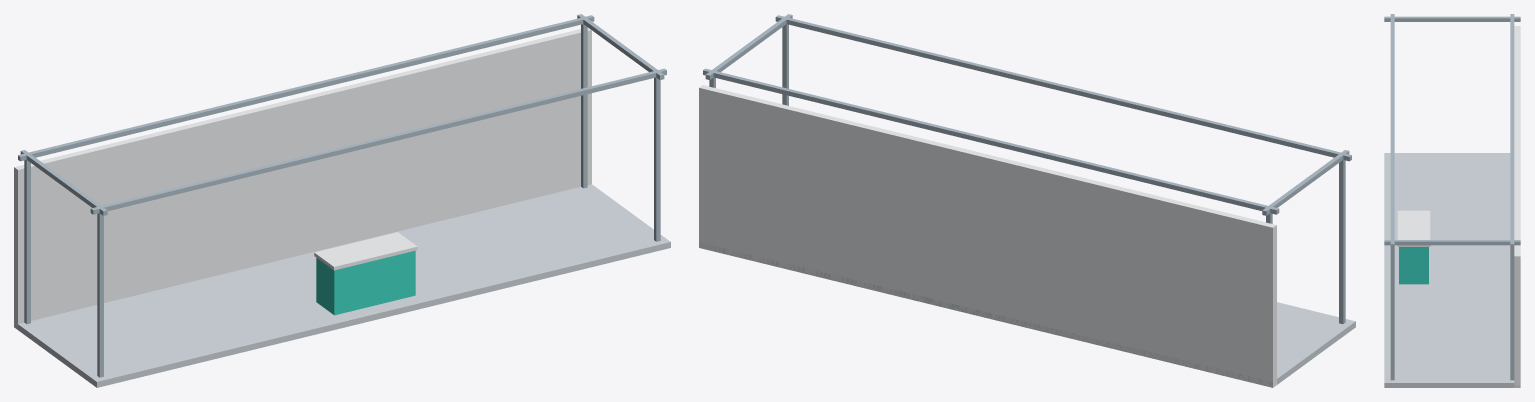
The picture shows the model from 3 angles, left to right: view 1: azimuth 30°, elevation 25°; view 2: azimuth 150°, elevation 25°; view 3: azimuth 270°, elevation 25°; orthographic projection. The views are drawn at different scales.
Parts seen in each view (by area): view 1: Exhibition Booth Concept; view 2: Exhibition Booth Concept; view 3: Exhibition Booth Concept.
Boxes of the visible parts, left/top/right/bottom form: Exhibition Booth Concept: left=14, top=14, right=670, bottom=387; Exhibition Booth Concept: left=699, top=14, right=1355, bottom=387; Exhibition Booth Concept: left=1384, top=14, right=1520, bottom=387.
Size of the model in its own units: 12 by 3.49 by 3.
